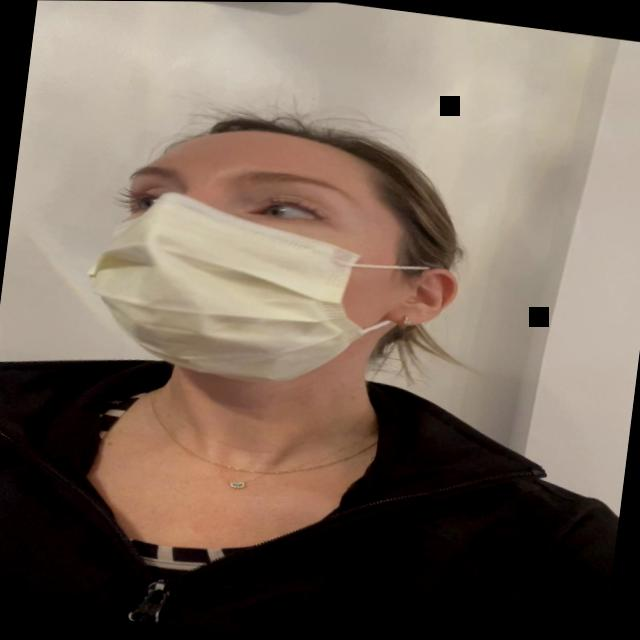Mask: (66, 96, 498, 431)
